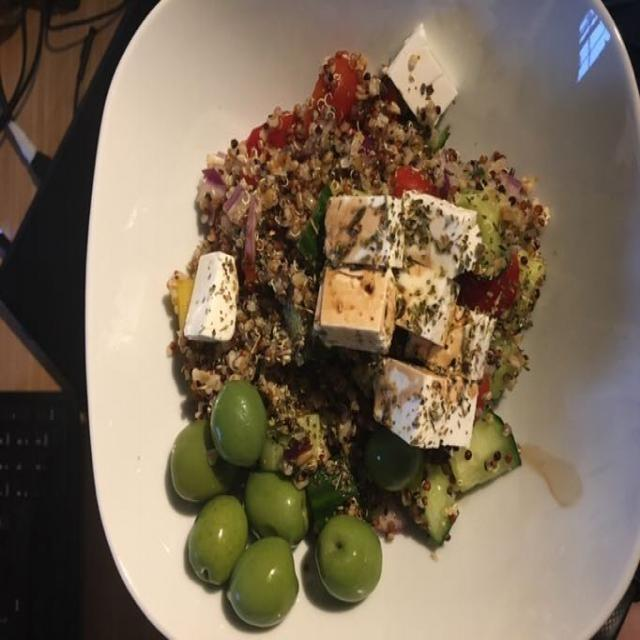cheese: (186, 31, 491, 448)
cucumber: (416, 410, 520, 529)
green-olives: (173, 376, 376, 625)
quinoa: (178, 90, 539, 512)
tomato: (254, 54, 371, 126)
